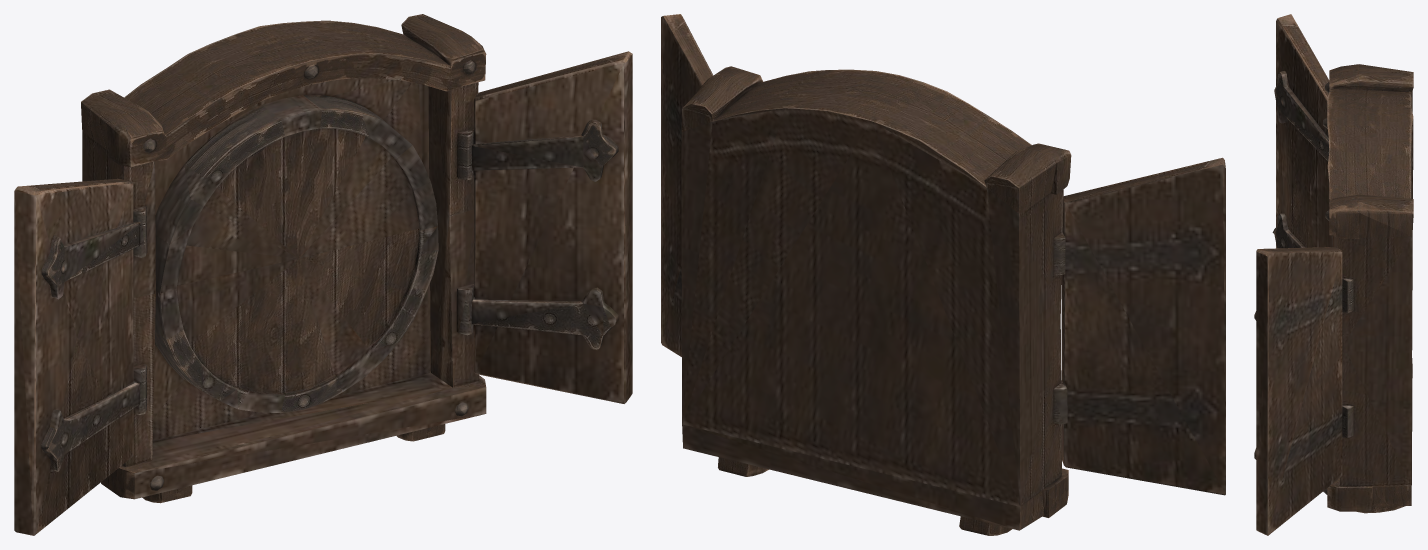
The model's file is dartboard.glb.
3 renders of one model, left to right at view 1: azimuth 30°, elevation 25°; view 2: azimuth 150°, elevation 25°; view 3: azimuth 270°, elevation 25°, orthographic. The views are drawn at different scales.
Parts seen in each view (by area): view 1: GLTF; view 2: GLTF; view 3: GLTF.
Boxes of the visible parts, bbox=[...] form: GLTF: bbox=[14, 14, 632, 535]; GLTF: bbox=[661, 14, 1225, 535]; GLTF: bbox=[1254, 14, 1413, 535].
Bounding box in the file's own units: 1.22 × 0.8119 × 0.3413.
Materials: 1 (1 with a texture image).
